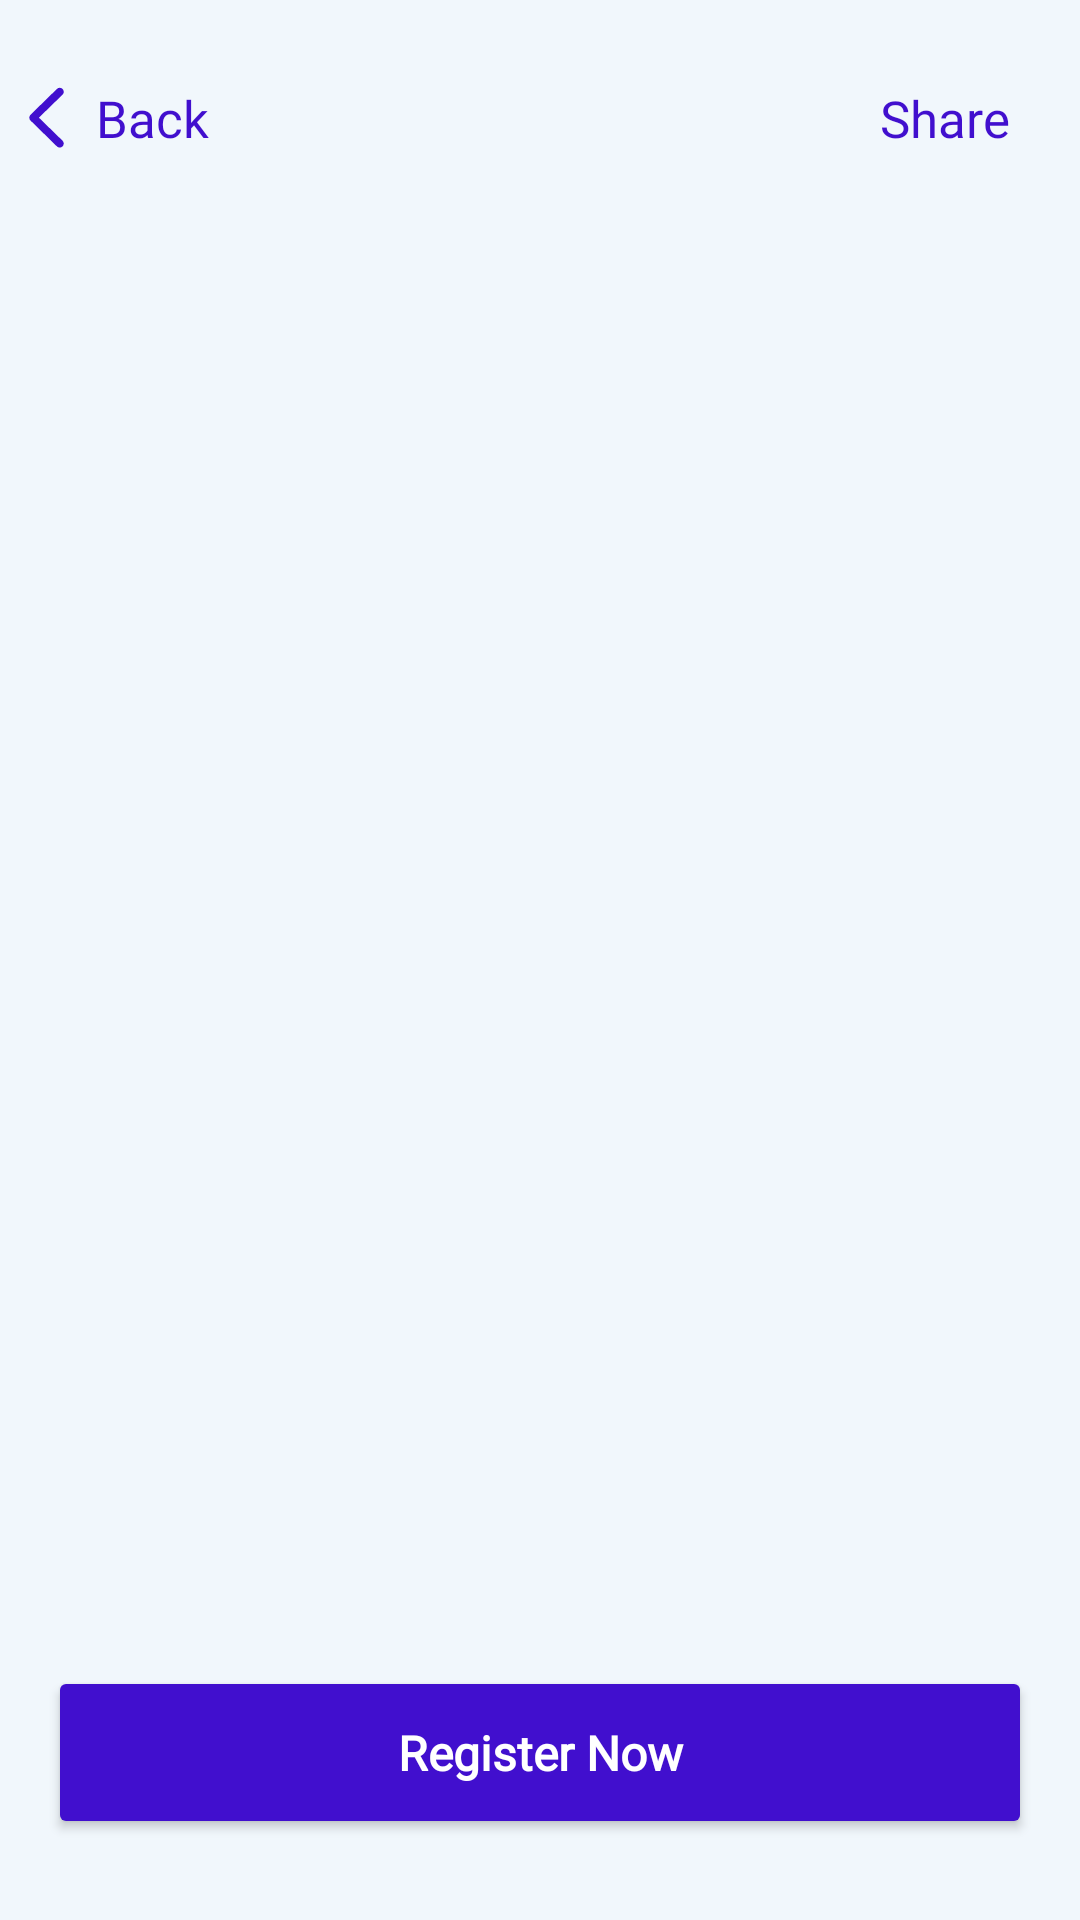

Point at icon controls on the screen. Image size 1080px×1920px, points as point (x, y).
chevron left: point (46, 117)
